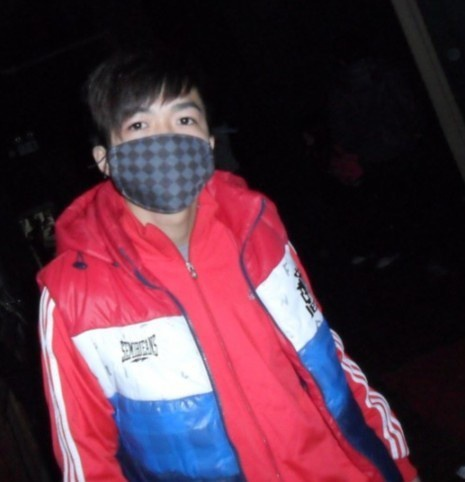face_mask: (111, 76, 210, 201)
